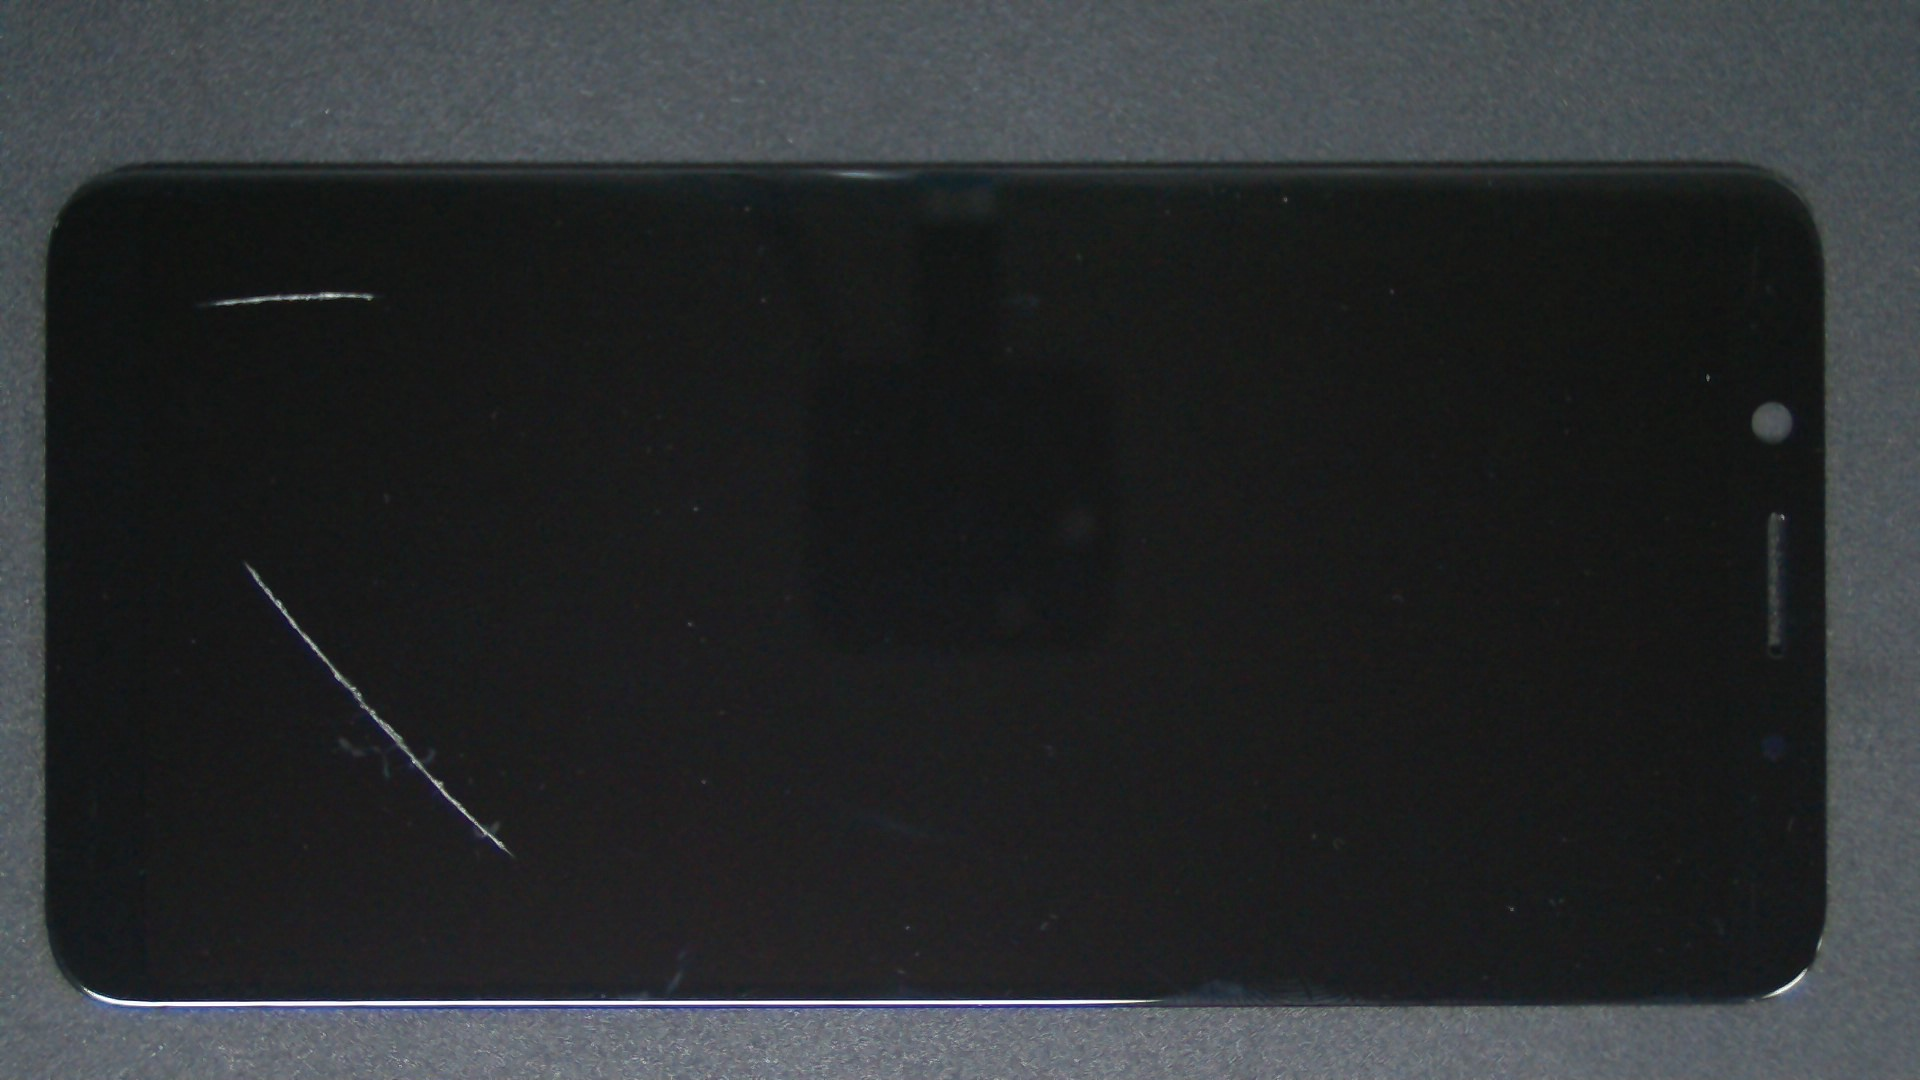oil: (123, 280, 368, 839), (171, 145, 512, 436)
